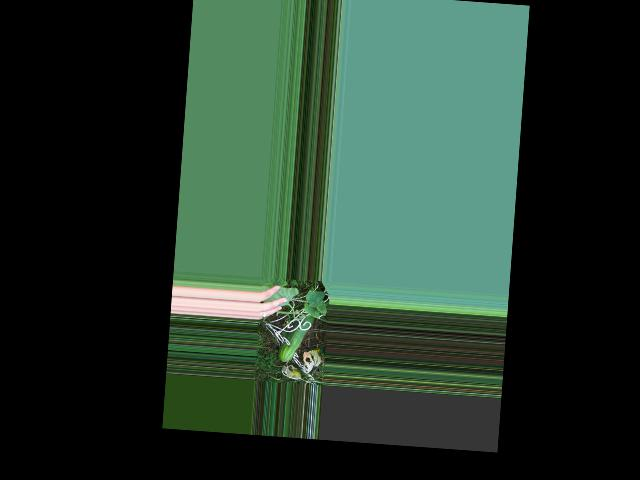cucumber: (277, 312, 314, 363)
